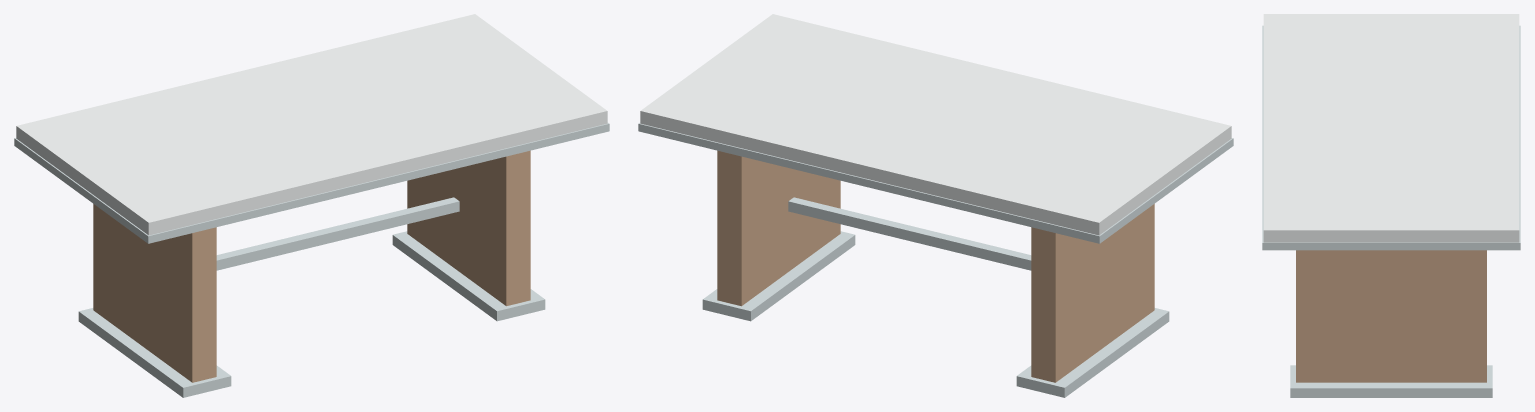
The model's file is diningMarbleLuxury.glb.
3 views of the same model, side by side, from view 1: azimuth 30°, elevation 25°; view 2: azimuth 150°, elevation 25°; view 3: azimuth 270°, elevation 25° (orthographic). The views are drawn at different scales.
Parts seen in each view (by area): view 1: diningMarbleLuxury; view 2: diningMarbleLuxury; view 3: diningMarbleLuxury.
Boxes of the visible parts, x1,y1,x2,y2 form: diningMarbleLuxury: (14,14,609,397); diningMarbleLuxury: (638,14,1233,397); diningMarbleLuxury: (1262,14,1520,397).
Bounding box in the file's own units: 0.955 × 0.39 × 0.48.
